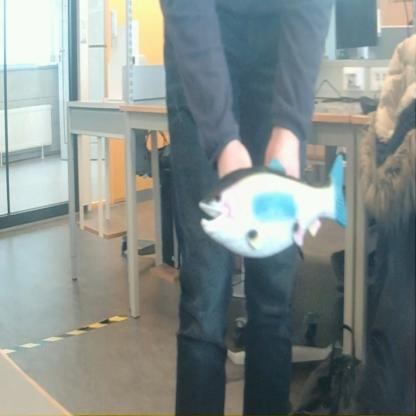rubberfish: (195, 147, 350, 263)
